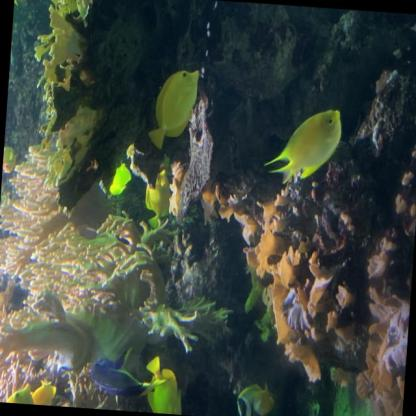fish: (262, 105, 343, 187), (146, 66, 200, 152), (82, 352, 158, 402), (139, 352, 191, 414), (138, 164, 174, 227), (231, 377, 279, 415), (30, 374, 60, 406), (8, 15, 21, 86), (109, 159, 132, 198), (2, 381, 40, 404), (2, 145, 18, 174), (13, 0, 30, 10), (0, 279, 3, 322)
